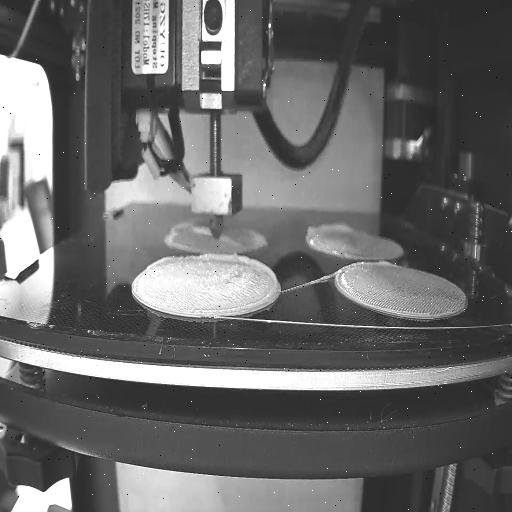over_extrusion: (191, 252, 279, 316), (302, 221, 354, 245), (147, 254, 183, 270), (189, 222, 210, 236), (221, 230, 239, 246), (375, 260, 397, 270)
